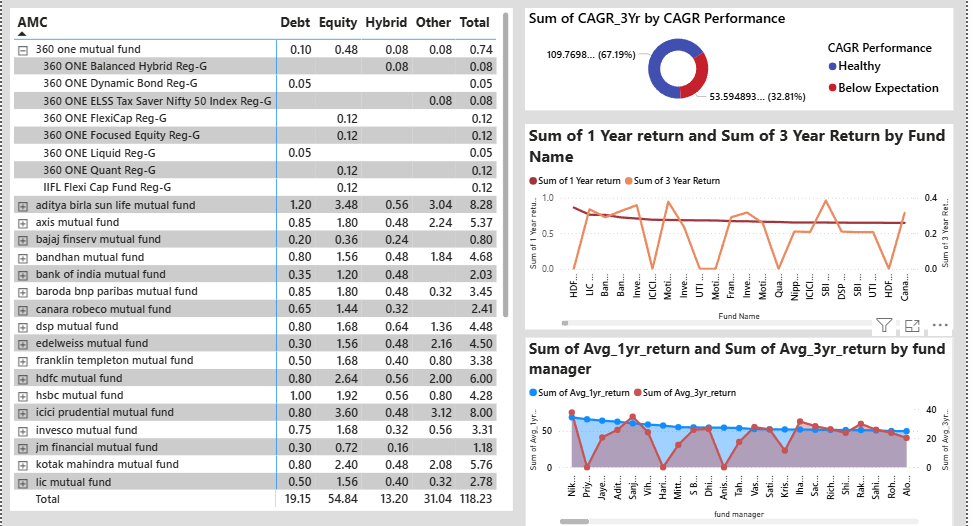

Layout of this report page (visuals, bound fields, positions):
{"tool":"powerbi","page":{"name":"Page 2","canvas":[1280,720],"ordinal":1},"visuals":[{"type":"pivotTable","fields":{"Rows":["Mutual_fund Data.AMC","Mutual_fund Data.Fund Name"],"Columns":["Mutual_fund Data.Category","Mutual_fund Data.CAGR Performance"],"Values":["Sum(Mutual_fund Data.Healthy_cagr_treshold)"]},"box":[10.3,28.1,668.1,668.1],"z":0},{"type":"donutChart","fields":{"Y":["Sum(Mutual_fund Data.CAGR_3Yr)"],"Category":["Mutual_fund Data.CAGR Performance"]},"box":[694.7,28.1,569.1,136],"z":1000},{"type":"lineChart","fields":{"Category":["Mutual_fund Data.Fund Name"],"Y":["Sum(Mutual_fund Data.1 Year return)"],"Y2":["Sum(Mutual_fund Data.3 Year Return)"]},"box":[694.7,181.8,569.1,273.4],"z":2000},{"type":"lineChart","fields":{"Category":["mutualfund topfundmangr_with_avgperformance.fund manager"],"Y":["Sum(mutualfund topfundmangr_with_avgperformance.Avg_1yr_return)"],"Y2":["Sum(mutualfund topfundmangr_with_avgperformance.Avg_3yr_return)"]},"box":[694.7,465.6,569.1,254.2],"z":3000}]}

Visuals, with their boxes on the page's 1280x720 design canvas (x1, y1, x2, y2). These are canvas units, not pixel positions in the 973x526 screenshot, which may show the page scaled, cropped or inside an application window:
pivotTable - Mutual_fund Data.AMC x Mutual_fund Data.Fund Name: detection(10, 28, 678, 696)
donutChart - Sum(Mutual_fund Data.CAGR_3Yr) x Mutual_fund Data.CAGR Performance: detection(695, 28, 1264, 164)
lineChart - Mutual_fund Data.Fund Name x Sum(Mutual_fund Data.1 Year return): detection(695, 182, 1264, 455)
lineChart - mutualfund topfundmangr_with_avgperformance.fund manager x Sum(mutualfund topfundmangr_with_avgperformance.Avg_1yr_return): detection(695, 466, 1264, 720)
